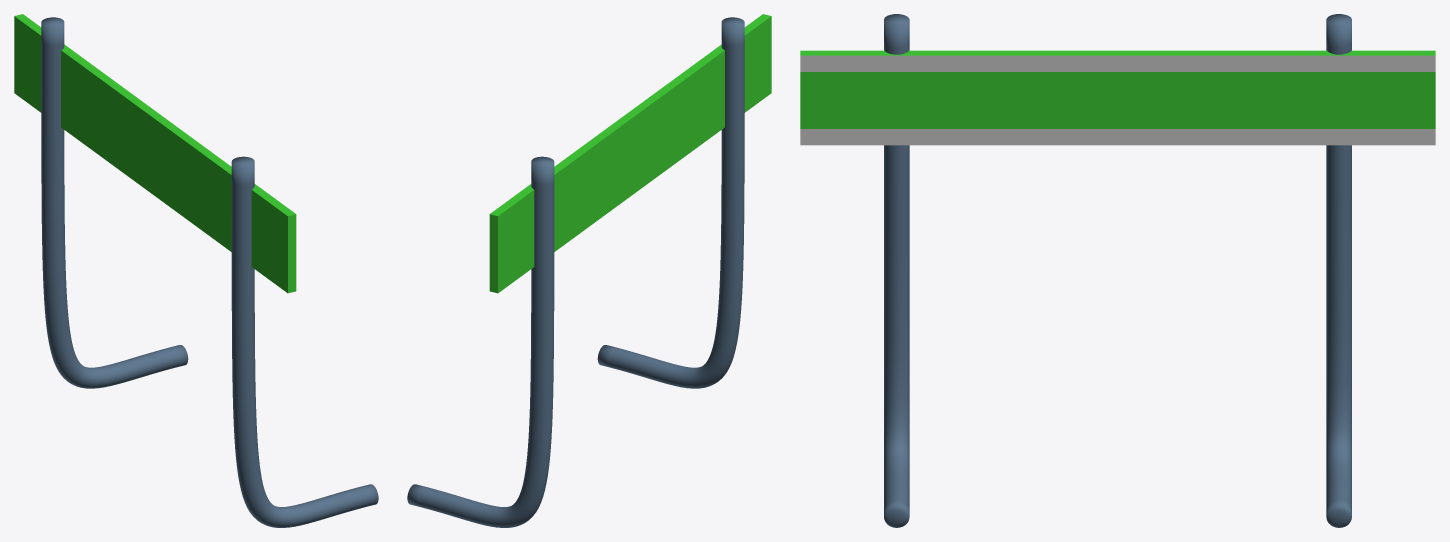
The model's file is hurdle.fbx.
3 renders of one model, left to right at view 1: azimuth 30°, elevation 25°; view 2: azimuth 150°, elevation 25°; view 3: azimuth 270°, elevation 25°, orthographic. The views are drawn at different scales.
Visible parts, largest first — view 1: NurbsPath, Cube; view 2: NurbsPath, Cube; view 3: Cube, NurbsPath.
Boxes of the visible parts, x1,y1,x2,y2 form: NurbsPath: (41, 17, 378, 527); Cube: (14, 14, 296, 293); NurbsPath: (407, 17, 744, 527); Cube: (489, 14, 771, 293); Cube: (800, 50, 1435, 145); NurbsPath: (884, 14, 1351, 527).
Bounding box in the file's own units: 208 × 535 × 704.
